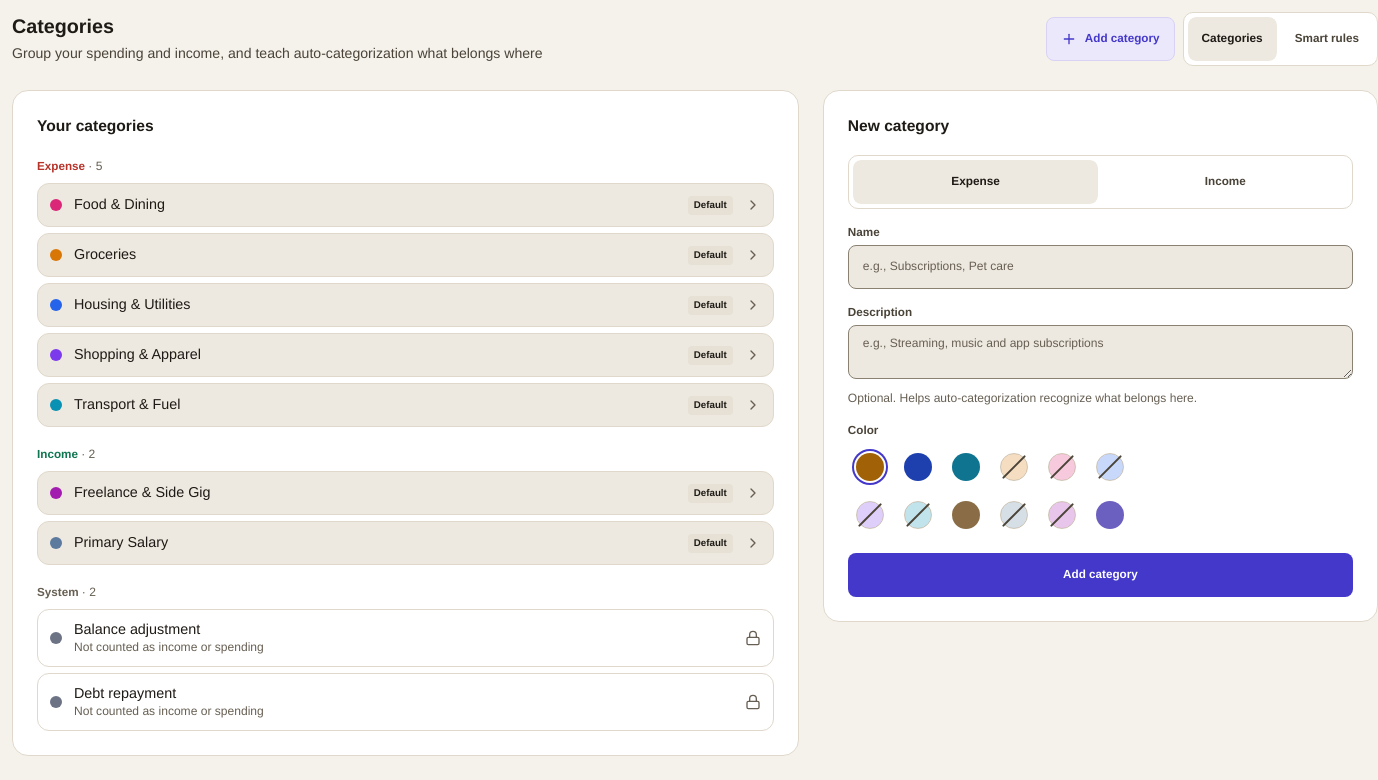
Test case: below lg › offers "Add category" in the header, which takes focus to the New form (audit 011 finding 2)
Click the button with id "category-open-new-btn" at (1110, 39), box [1046,17,1175,61]
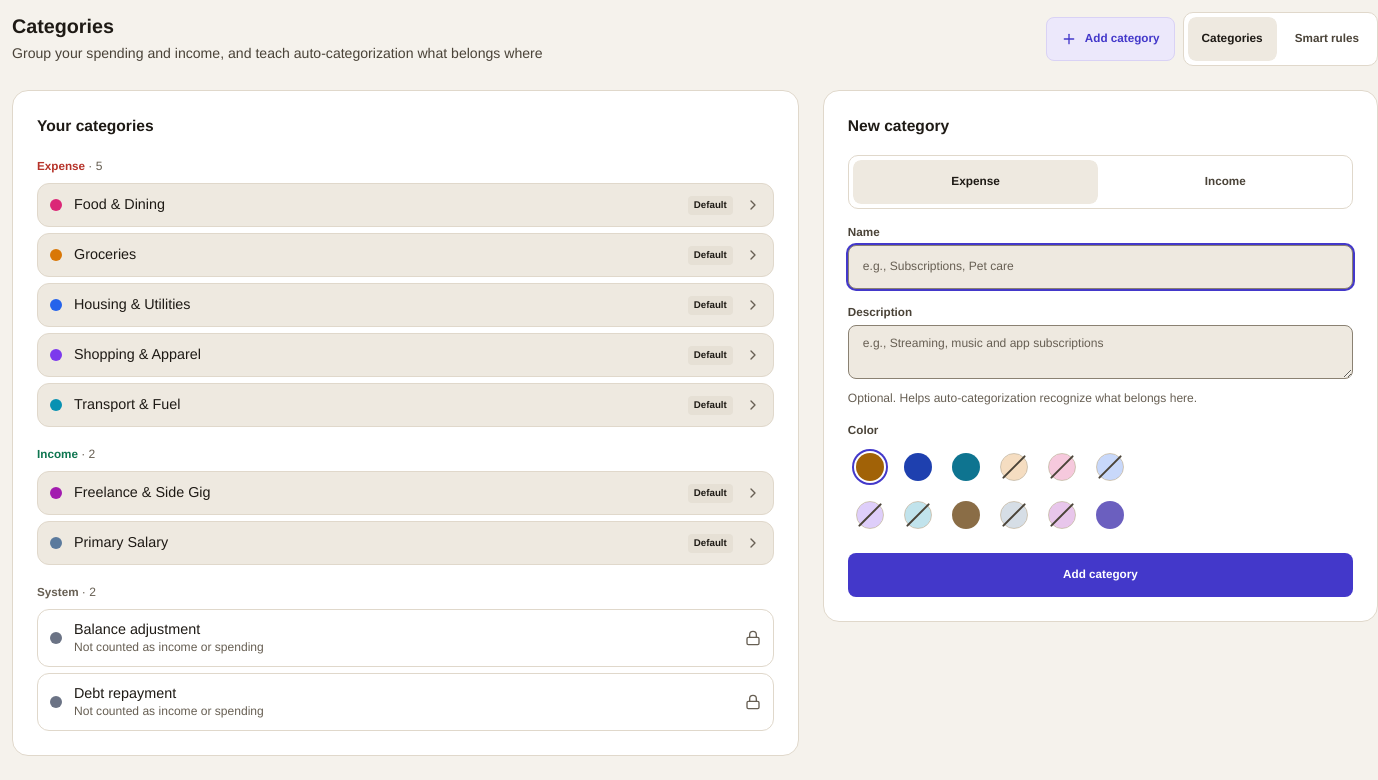
Not on the Smart rules tab, where there is no form to go to.
Click the tab with id "category-subtab-rules" at (1327, 39), box [1281,17,1373,61]
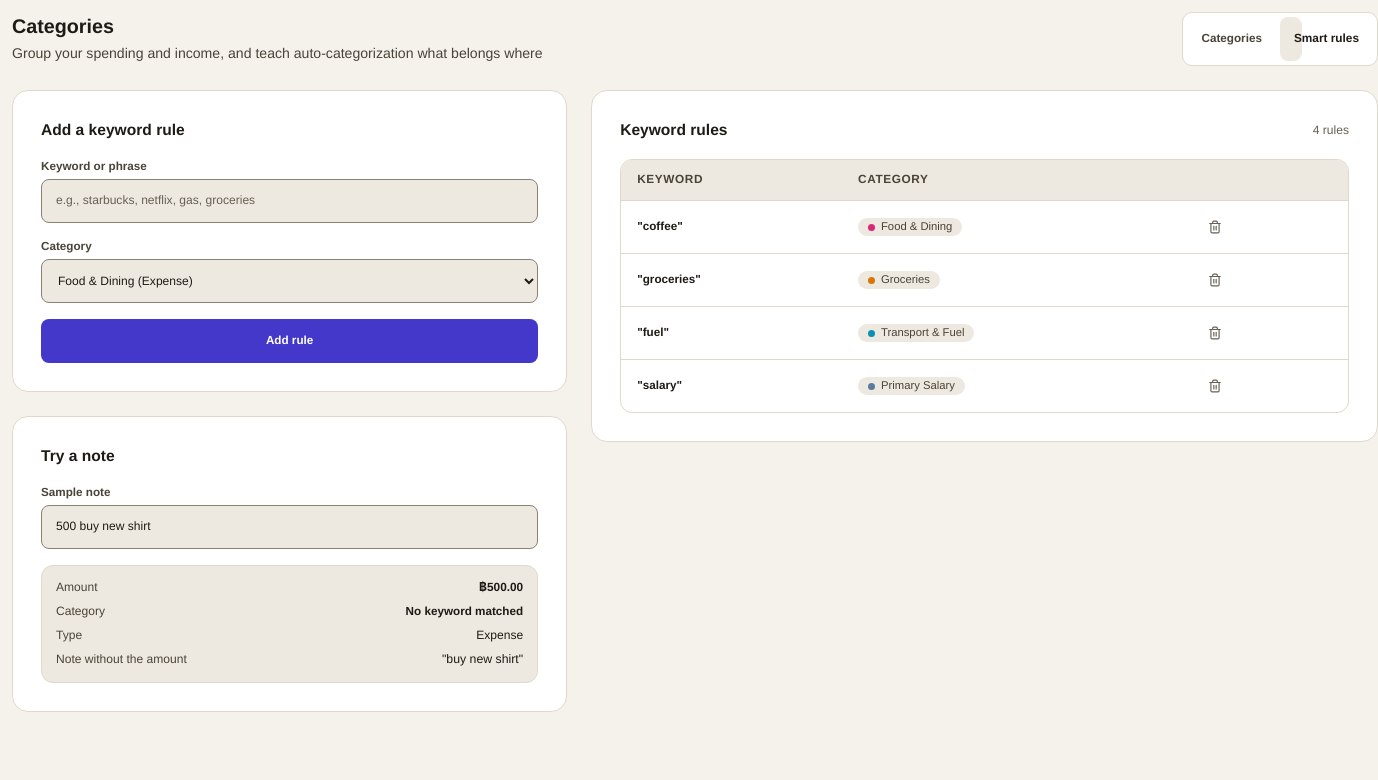
Expected: the button with id "category-open-new-btn" is gone
